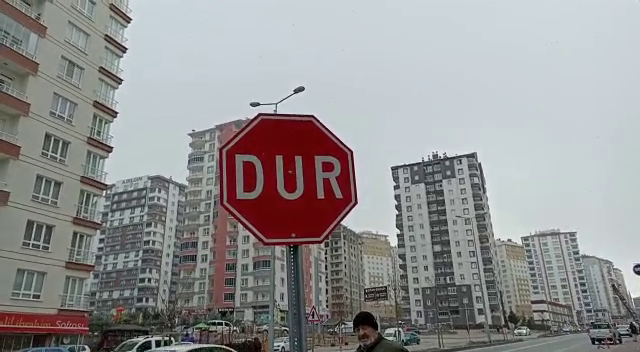stop: (218, 111, 361, 248)
